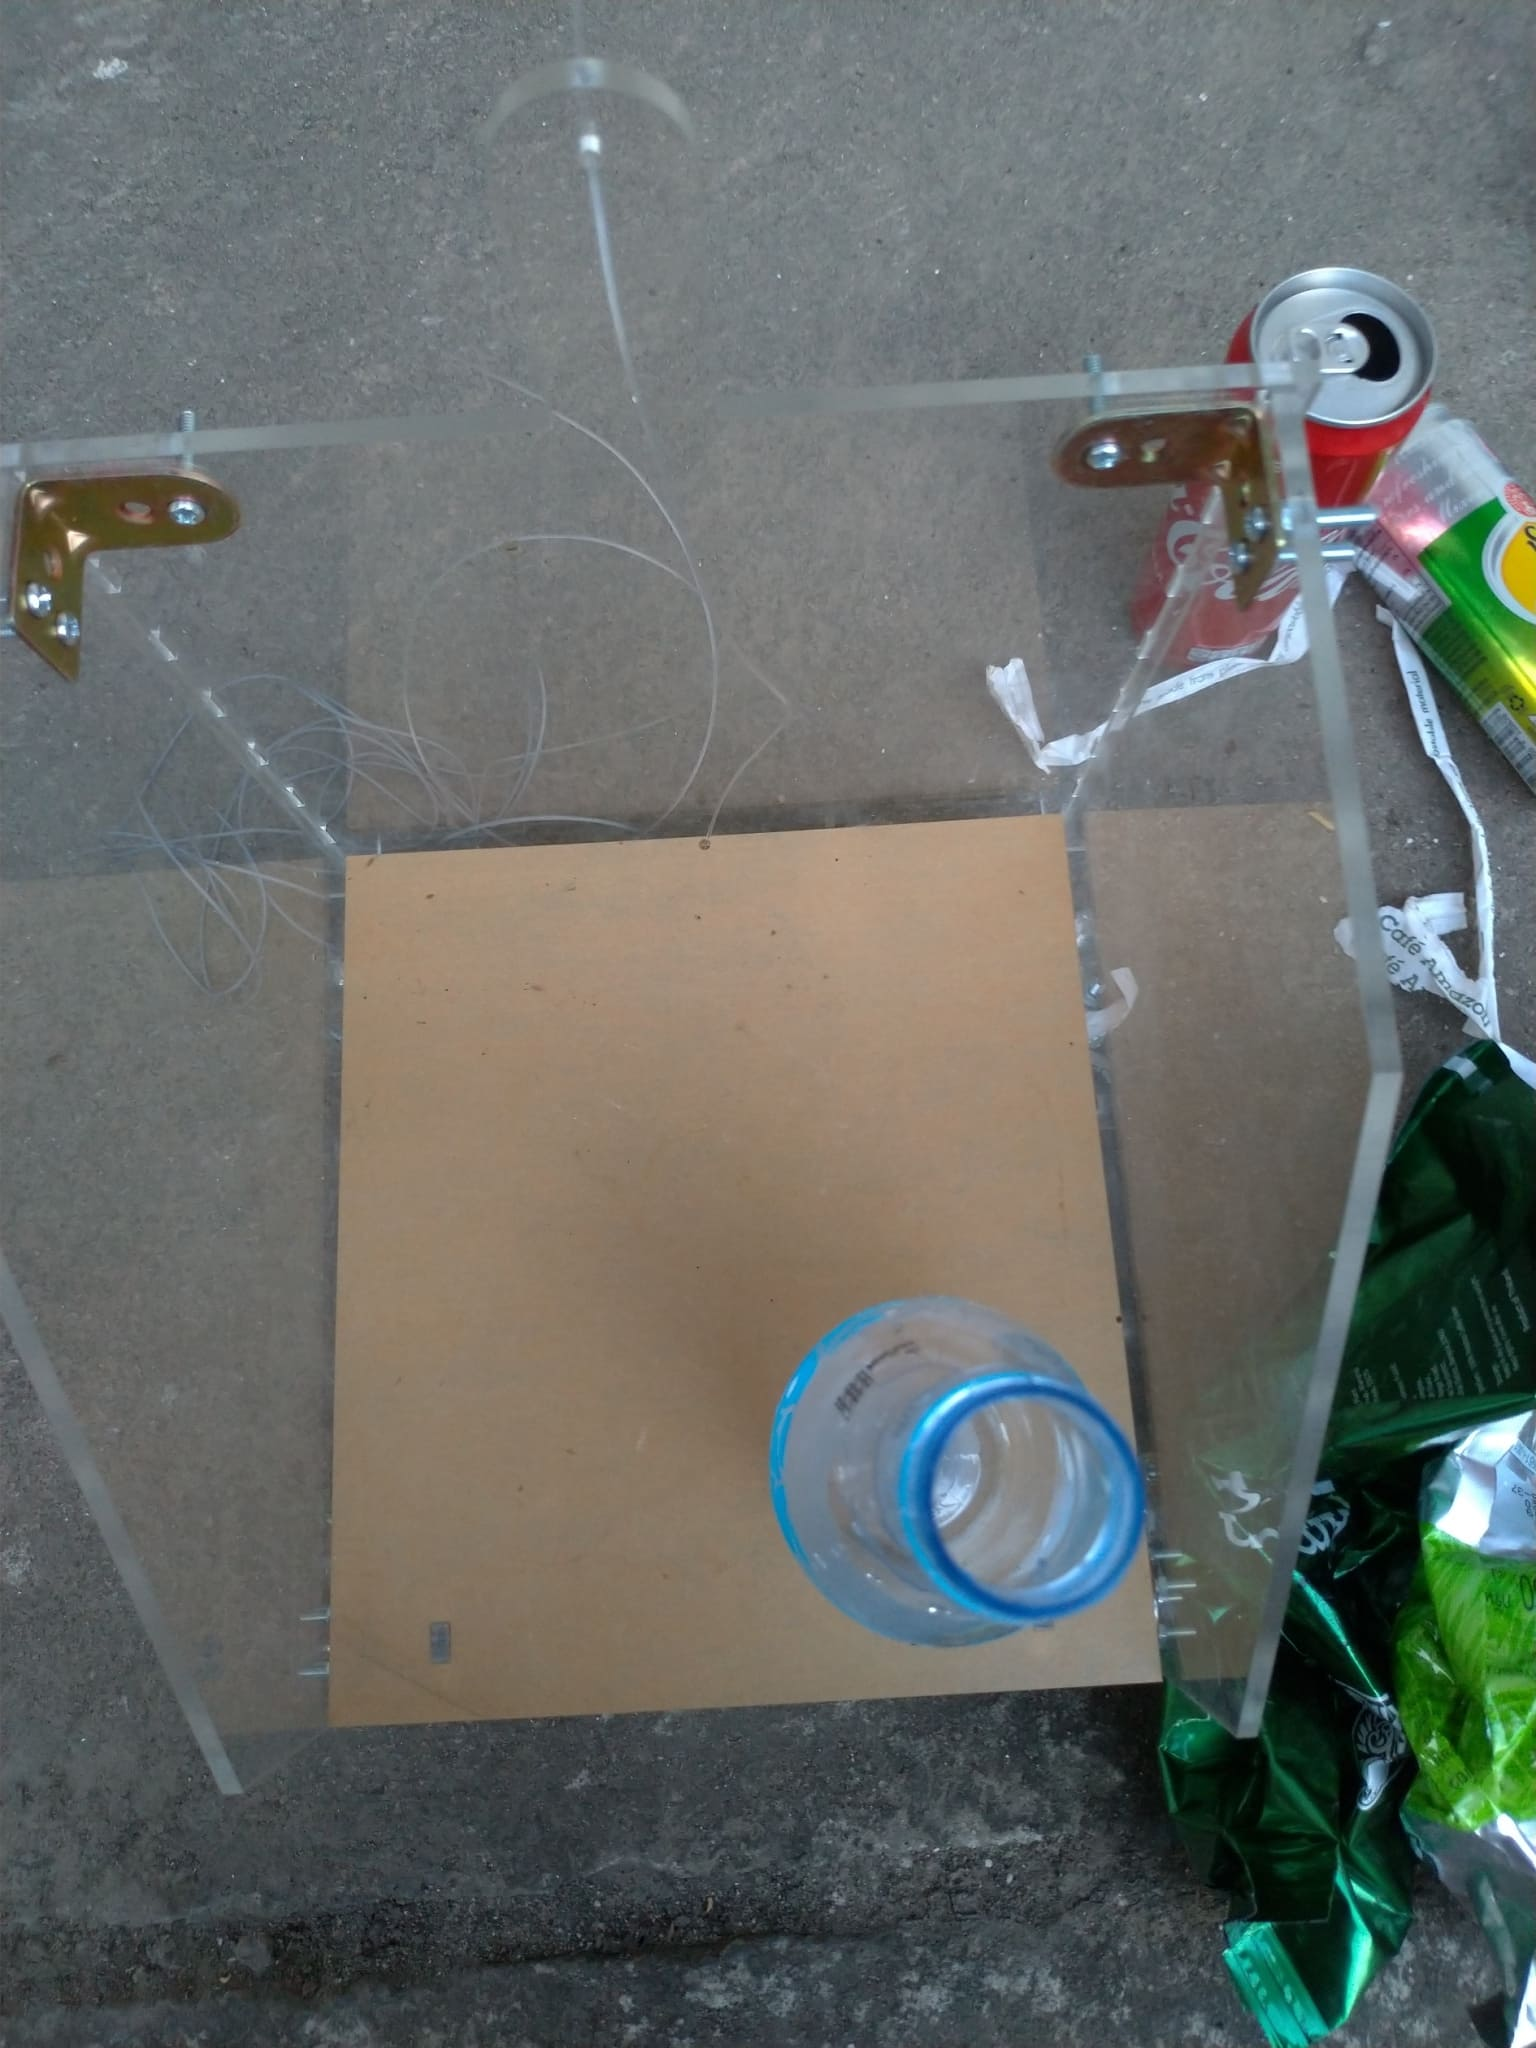AlCan: (1125, 261, 1438, 661), (1347, 410, 1536, 780)
Others: (1158, 1048, 1536, 2022), (1379, 1413, 1536, 2009), (1329, 610, 1501, 1042), (987, 597, 1305, 780)
PlasticBottle: (774, 1293, 1146, 1648)
